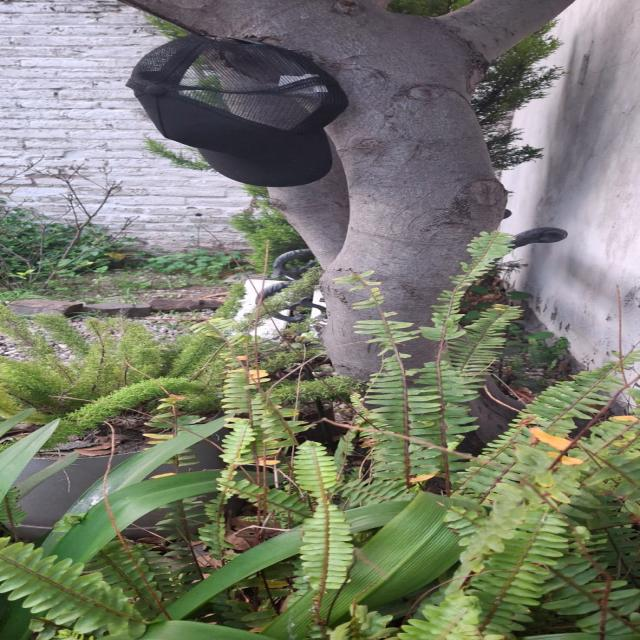Gorra: (122, 31, 370, 191)
